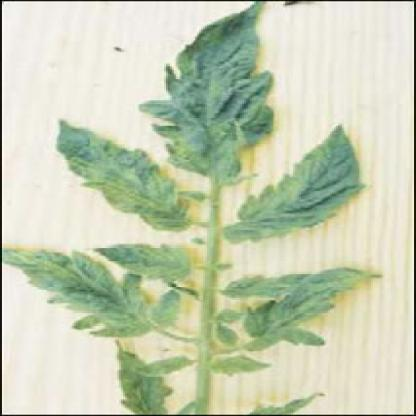tomato leaf mosaic virus: (158, 7, 281, 186), (221, 127, 363, 242), (12, 244, 184, 338), (230, 270, 387, 355), (96, 242, 201, 281)
